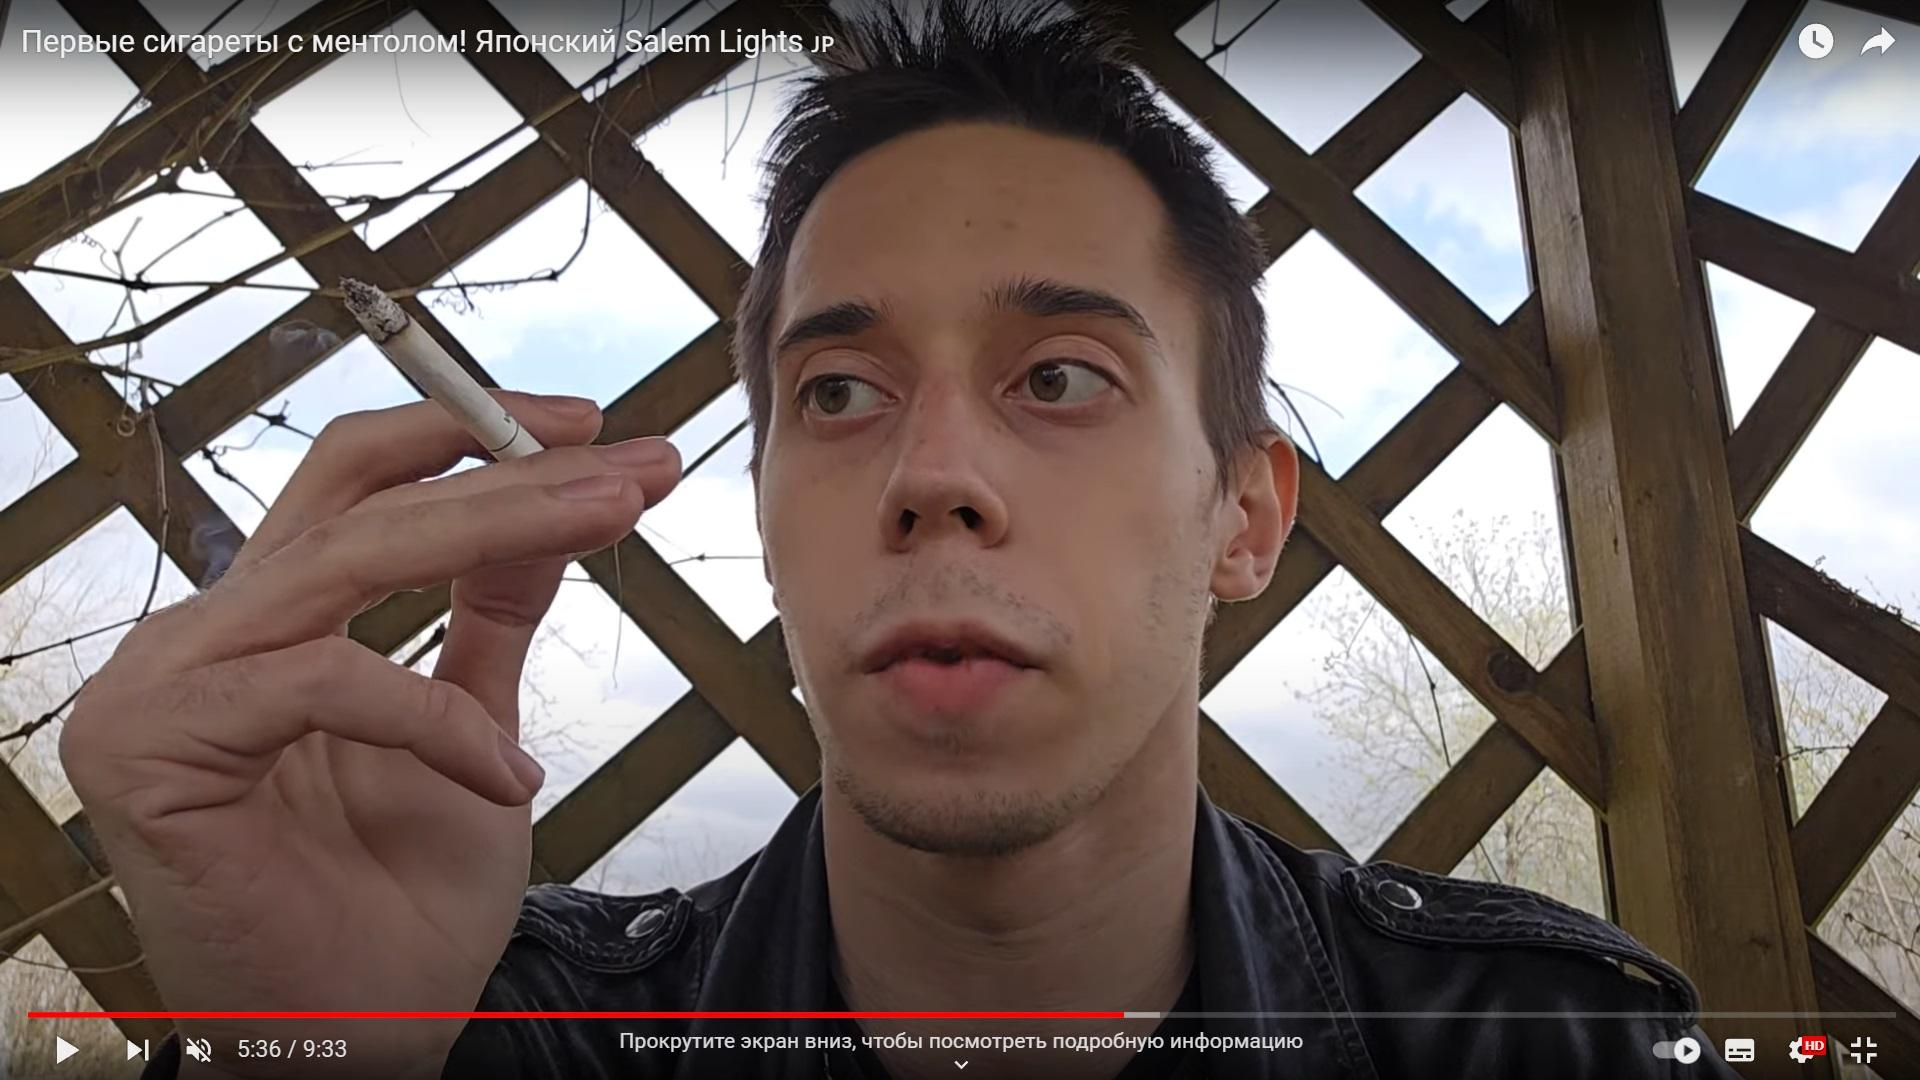cigarette: (342, 277, 543, 459)
